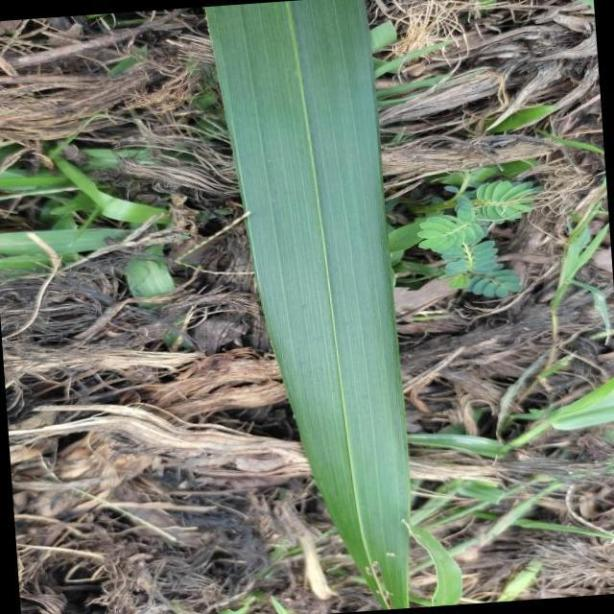Boron: (204, 0, 411, 610)
